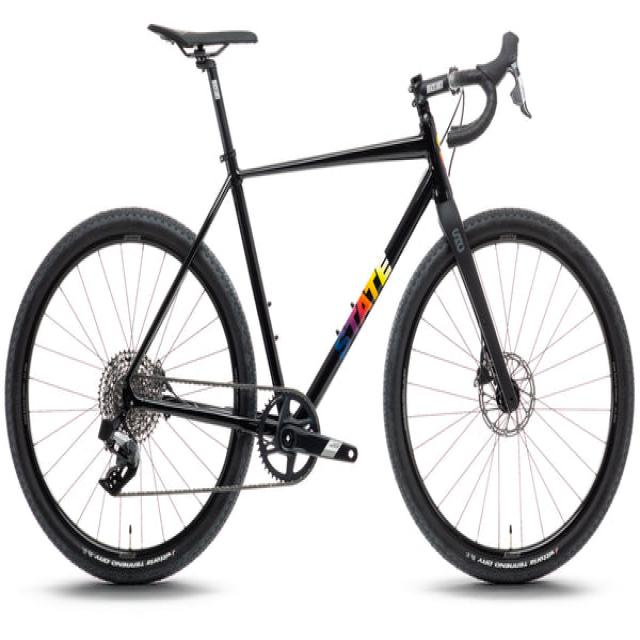road-bike: (4, 23, 632, 588)
